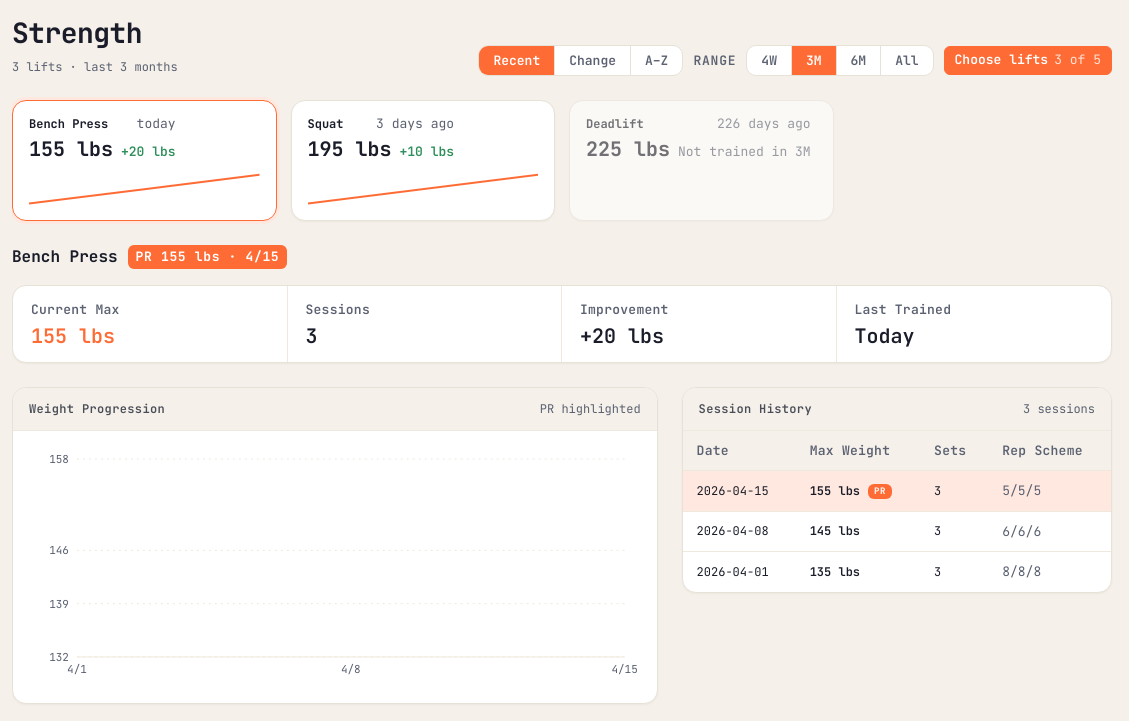
it: Strength page — detail for the selected lift › updates the detail when another card is clicked
The width and height of the screenshot is (1129, 721).
Check: the element with test id "lift-grid" is shown, box [12, 100, 834, 221]
Click the button "Squat 3 days ago 195 lbs +10 lbs": (423, 160) [290, 100, 555, 221]
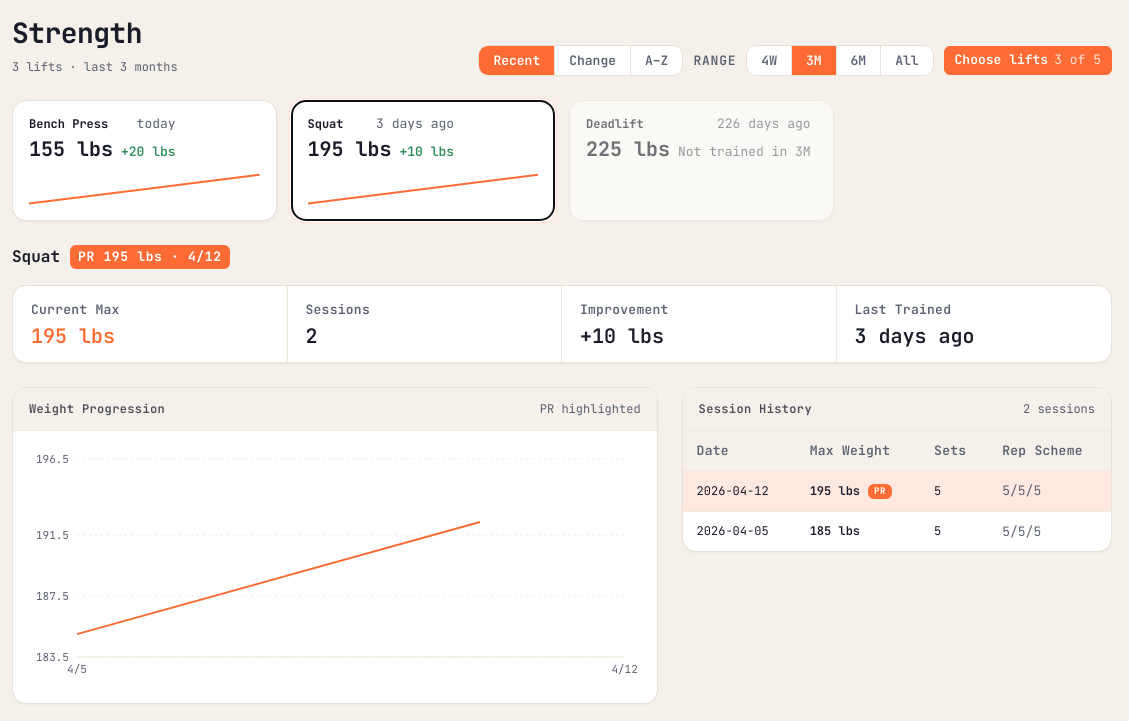
Check: the text "195 lbs" below "current max" is shown, box [31, 322, 115, 348]
Check: the text "2" is shown, box [306, 322, 318, 348]
Check: the text "3 days ago" below "last trained" is shown, box [854, 322, 974, 348]
